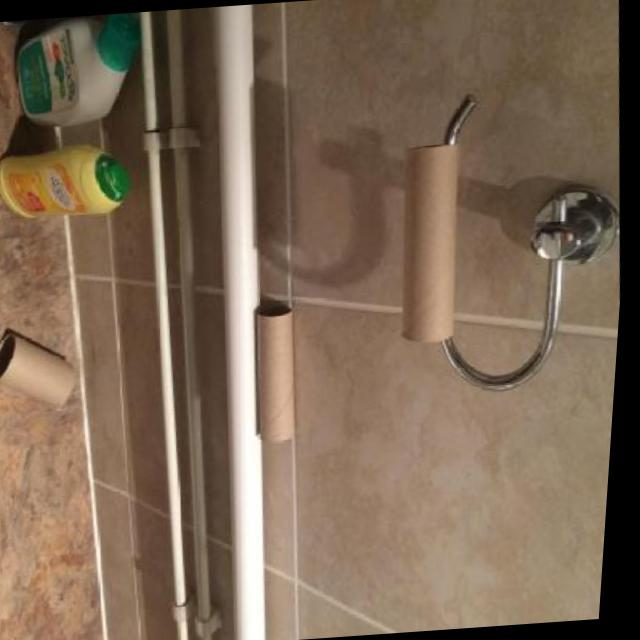cardboard: (385, 140, 471, 344), (242, 304, 303, 444), (0, 328, 79, 414)
plastic: (5, 12, 146, 132), (0, 139, 134, 224)
